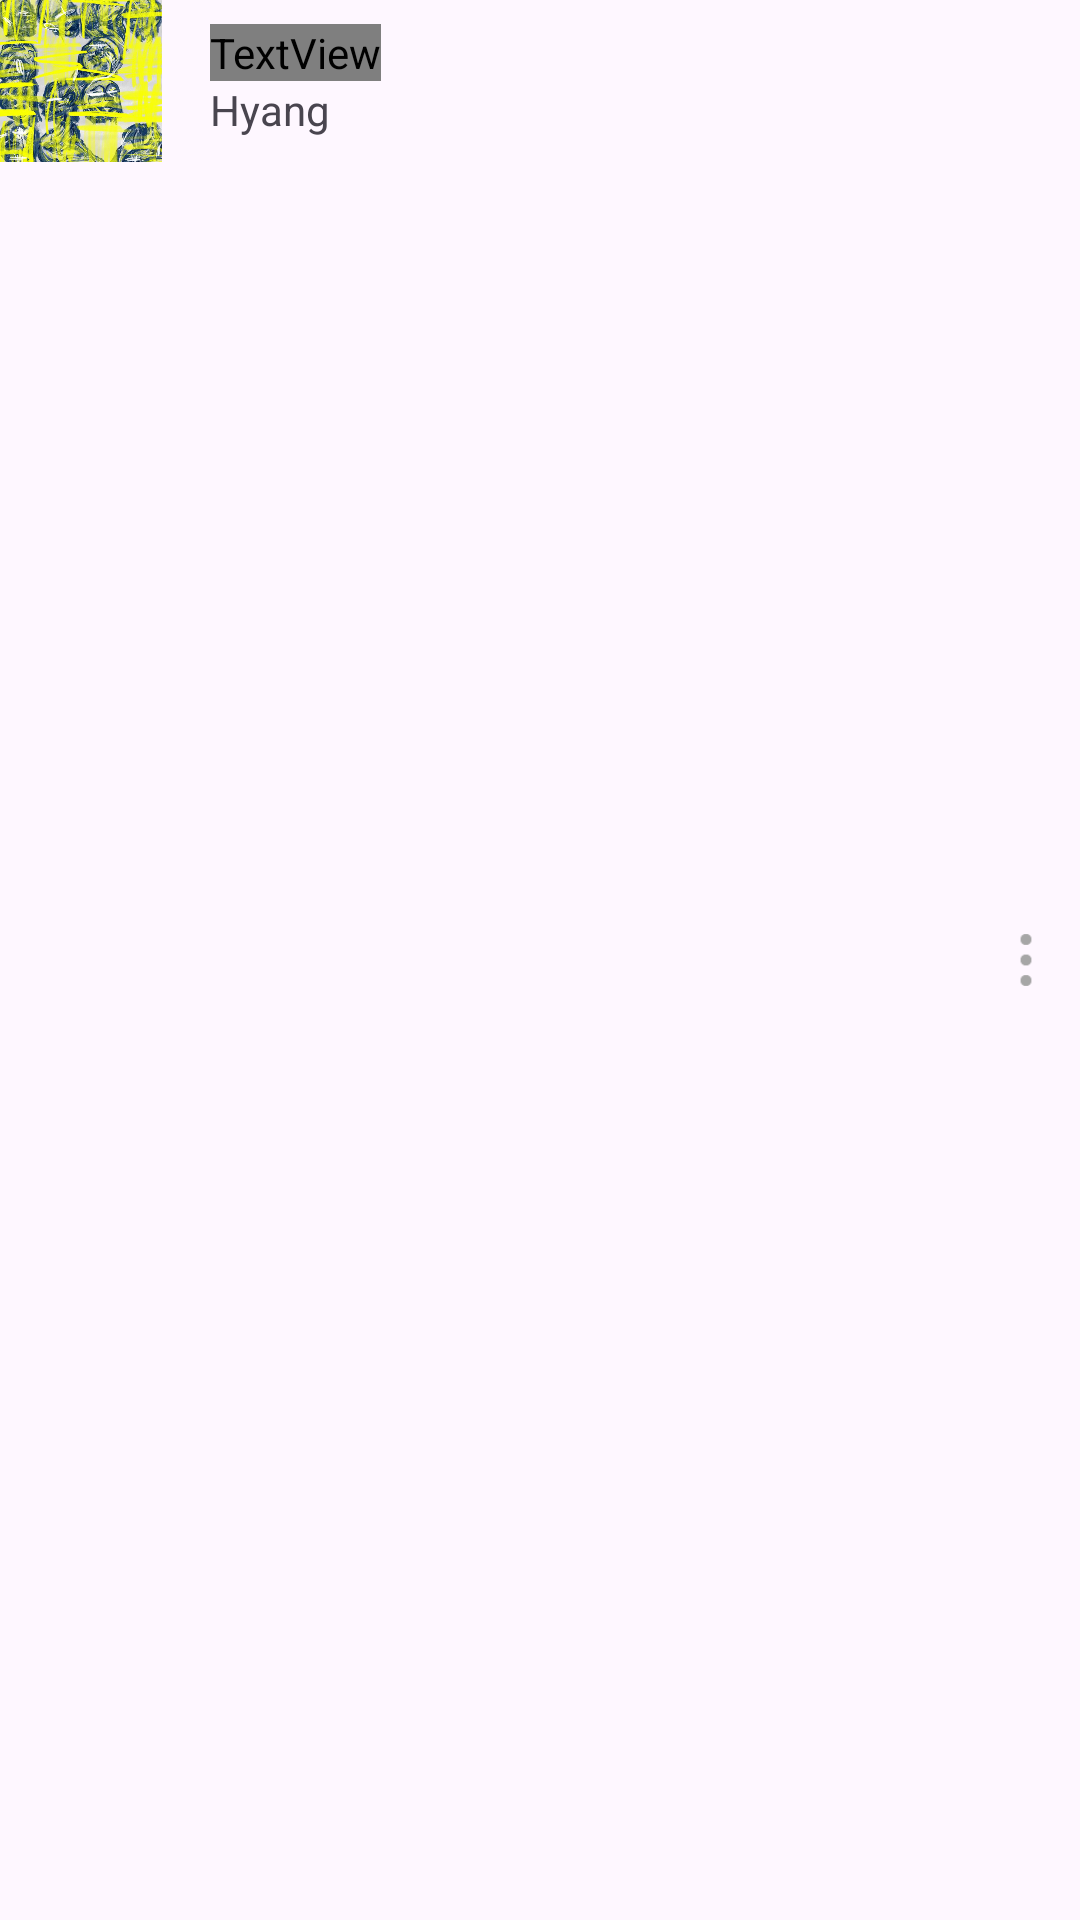

Screen size 1080w x 1920h. Icon name, then its center in pixels as (x,y):
kebab: (1026,960)
